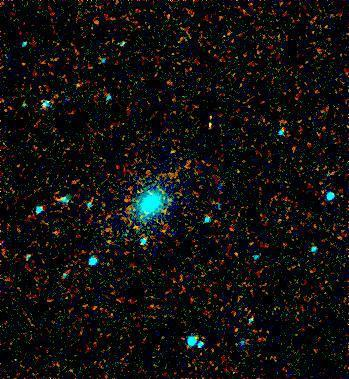star: (278, 222, 308, 252)
